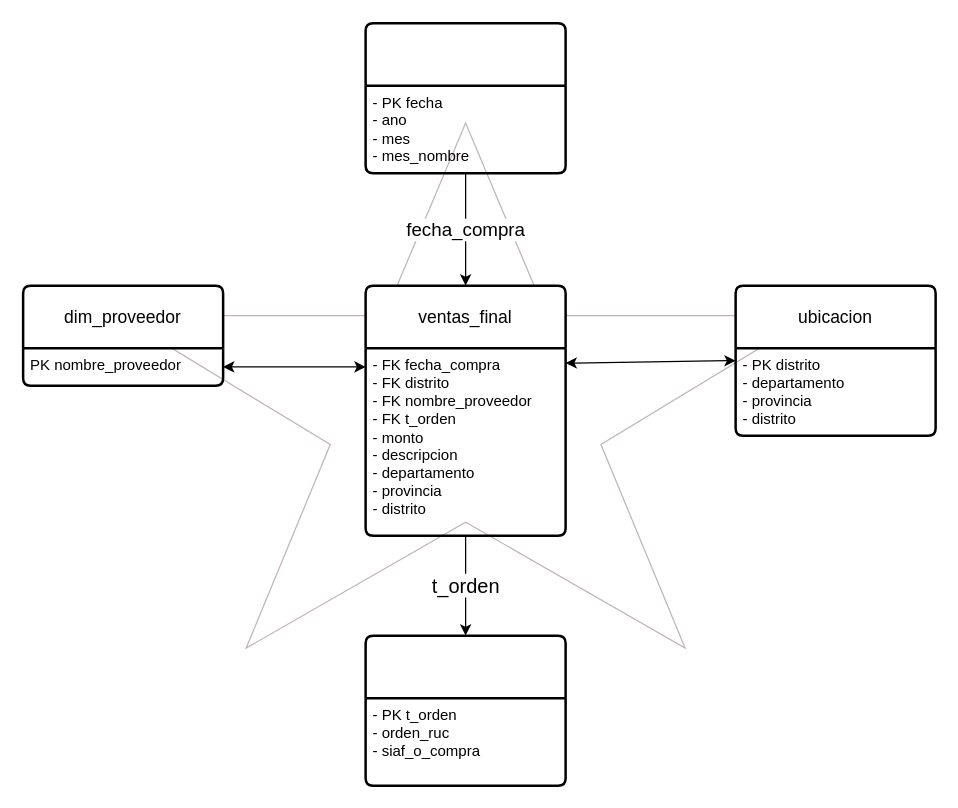
Image size: 958x808. Some labels were removed from this diagram. Here are the shapes that lost their labels. From the top down, the box of each, then its label:
(364, 21, 566, 174): calendario
(364, 634, 566, 786): dim_orden
